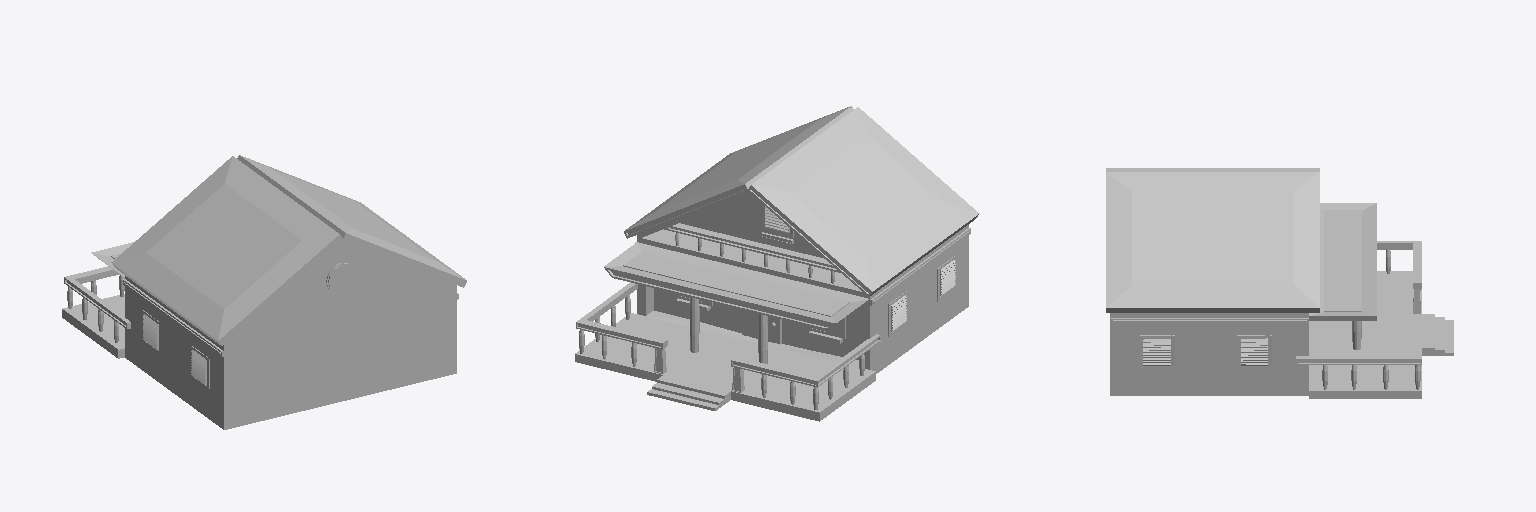
File: Chalet.obj
3 renders of one model, left to right at view 1: azimuth 30°, elevation 25°; view 2: azimuth 150°, elevation 25°; view 3: azimuth 270°, elevation 25°, orthographic.
Parts seen in each view (by area): view 1: obj1; view 2: obj1; view 3: obj1.
Boxes of the visible parts, x1,y1,x2,y2 form: obj1: [62, 155, 466, 429]; obj1: [575, 106, 979, 421]; obj1: [1106, 168, 1453, 398].
Bounding box in the file's own units: 735 × 487 × 889.